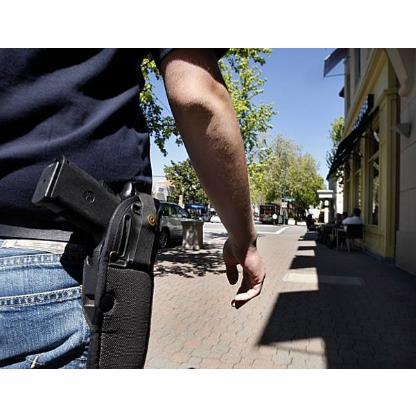gun: (38, 151, 164, 367)
